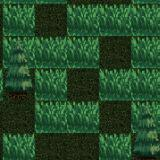Obstacle: (3, 69, 35, 101), (132, 133, 160, 160)
Slow: (2, 37, 99, 68), (67, 4, 160, 36), (34, 101, 99, 134), (99, 69, 160, 100), (2, 4, 35, 36), (34, 68, 67, 100), (131, 35, 160, 67), (131, 100, 160, 132), (2, 133, 35, 160), (99, 133, 131, 160)
